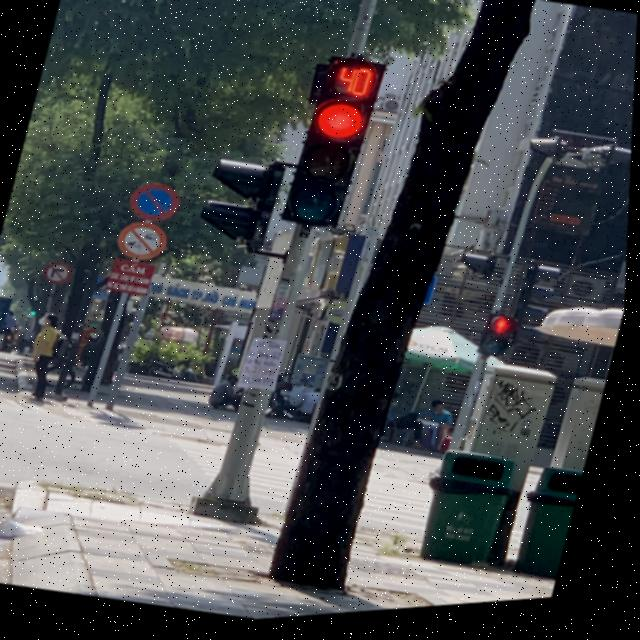Red: (279, 92, 376, 238)
